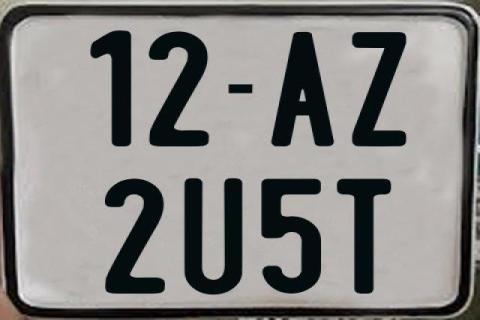0: (146, 31, 208, 151), (104, 178, 168, 294), (259, 179, 321, 295), (89, 28, 135, 149)
A: (268, 32, 338, 150)
T: (336, 176, 392, 295)
U: (184, 179, 248, 295)
Z: (350, 32, 406, 149)
